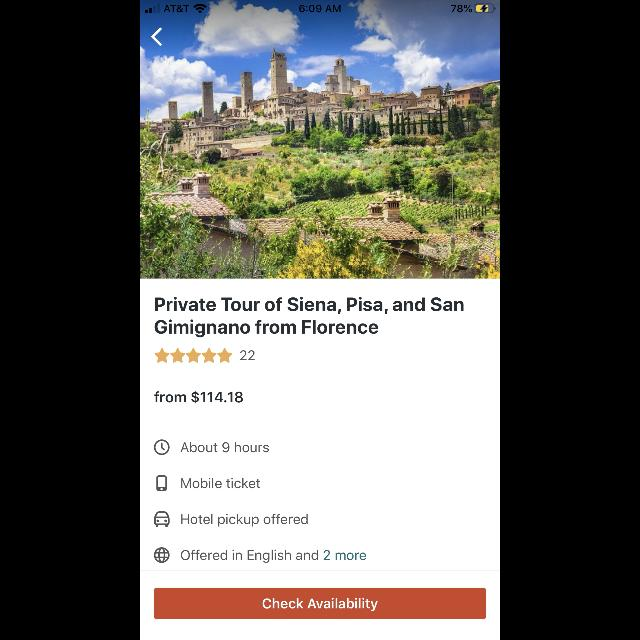icon: (155, 348, 233, 362), (154, 439, 170, 455), (152, 28, 162, 46)
image: (140, 0, 500, 278), (154, 511, 170, 527), (154, 547, 170, 563), (156, 475, 168, 491)
text: (154, 296, 463, 338), (182, 550, 366, 562), (180, 514, 308, 526), (154, 391, 243, 404), (181, 442, 269, 452), (182, 478, 260, 488), (240, 351, 256, 361)
textbutton: (154, 588, 486, 618)
uppertaskbar: (140, 0, 500, 14)
